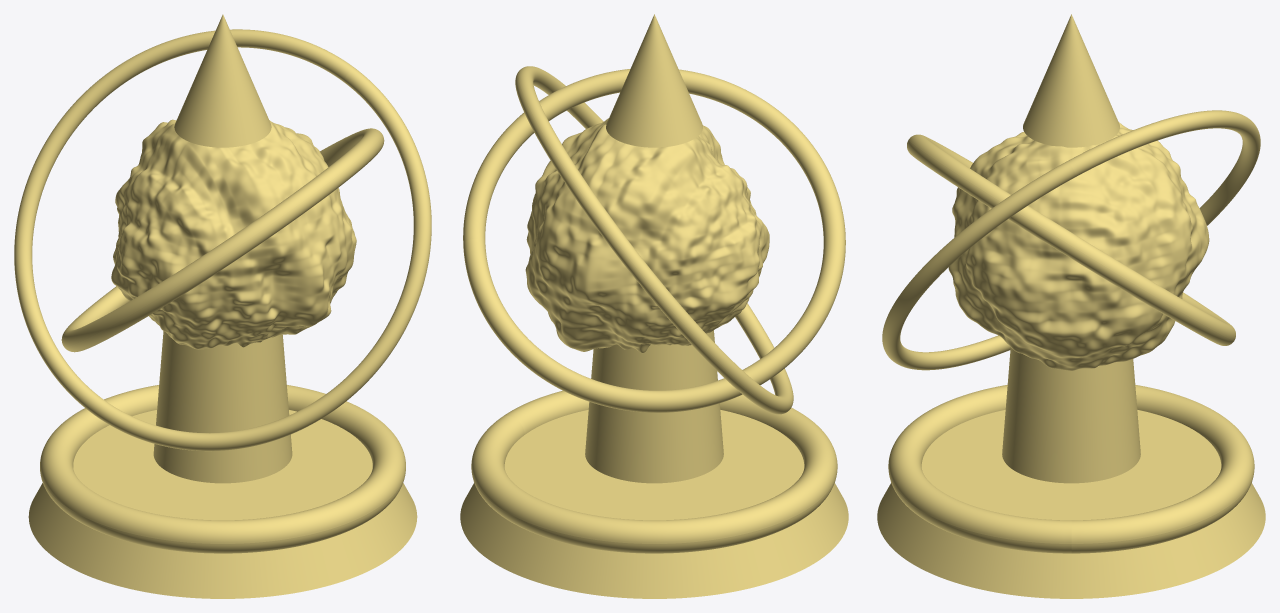
The model's file is highpoly.glb.
3 renders of one model, left to right at view 1: azimuth 30°, elevation 25°; view 2: azimuth 150°, elevation 25°; view 3: azimuth 270°, elevation 25°, orthographic.
Visible parts, largest first — view 1: CyberRelic_Node; view 2: CyberRelic_Node; view 3: CyberRelic_Node.
Part boxes in pixels (x1,y1,x2,y2): CyberRelic_Node: [14, 14, 431, 598]; CyberRelic_Node: [460, 14, 848, 598]; CyberRelic_Node: [877, 14, 1265, 598].
Size of the model in its own units: 2.8 by 4 by 2.8.
